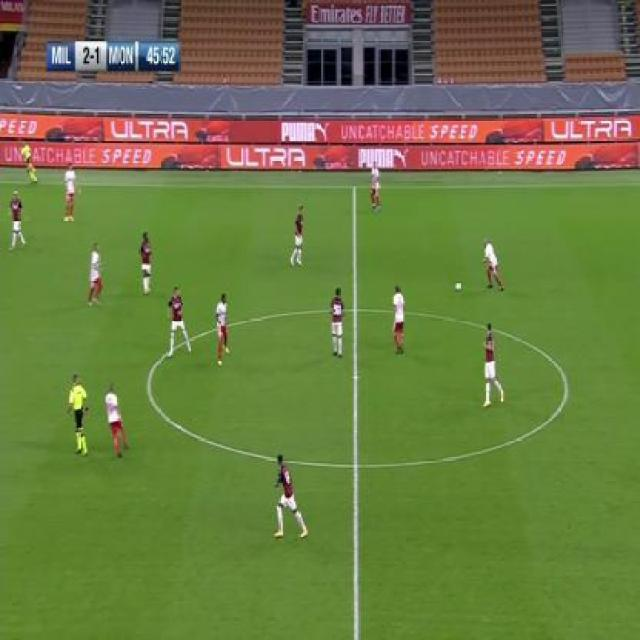ball: (455, 279, 463, 293)
player: (271, 451, 310, 540), (480, 321, 505, 409), (66, 372, 91, 457), (105, 384, 130, 460), (167, 283, 192, 359), (7, 189, 30, 254), (86, 242, 105, 310), (215, 291, 232, 367), (482, 236, 505, 292), (391, 282, 407, 356), (330, 286, 346, 359), (63, 160, 80, 225), (138, 229, 154, 297), (289, 206, 306, 269), (369, 158, 382, 214), (23, 140, 39, 185)
